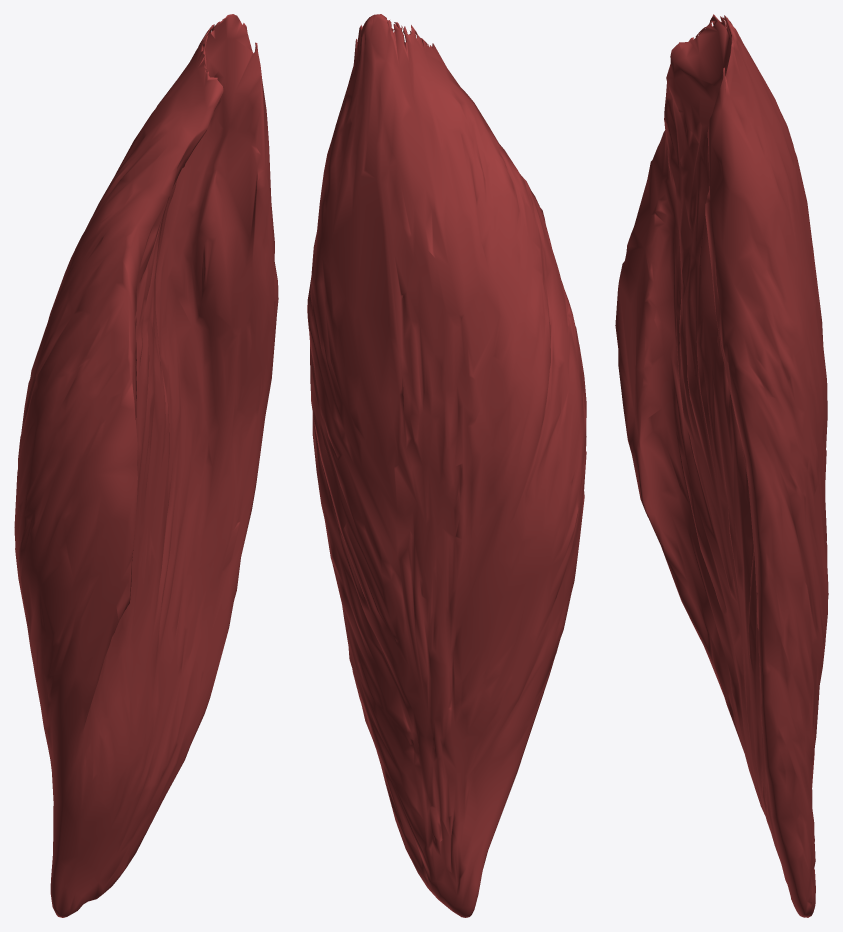
Rendered from soleus-muscle-l.glb.
The picture shows the model from 3 angles, left to right: view 1: azimuth 30°, elevation 25°; view 2: azimuth 150°, elevation 25°; view 3: azimuth 270°, elevation 25°; orthographic projection. The views are drawn at different scales.
Visible parts, largest first — view 1: Soleus muscle.l; view 2: Soleus muscle.l; view 3: Soleus muscle.l.
Part boxes in pixels (x1,y1,x2,y2): Soleus muscle.l: [14, 14, 278, 917]; Soleus muscle.l: [307, 14, 586, 917]; Soleus muscle.l: [615, 14, 828, 917].
Bounding box in the file's own units: 0.0851 × 0.2758 × 0.0552.
